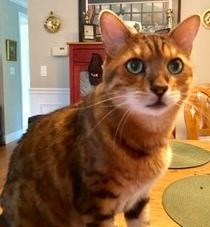bengal: (89, 6, 207, 126)
